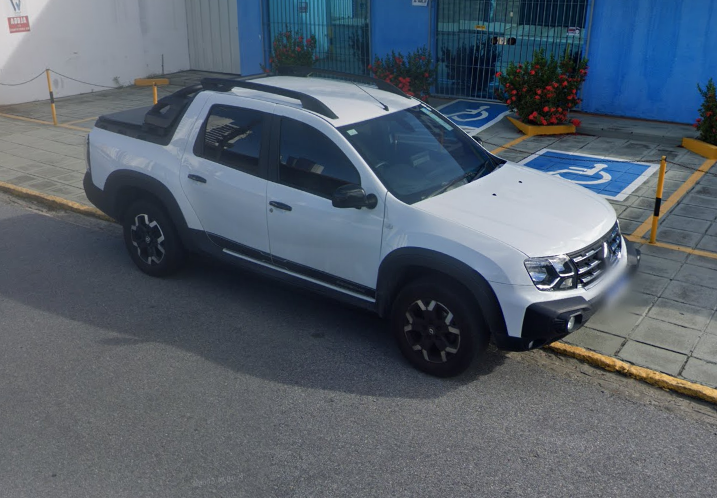car: (79, 61, 644, 383)
